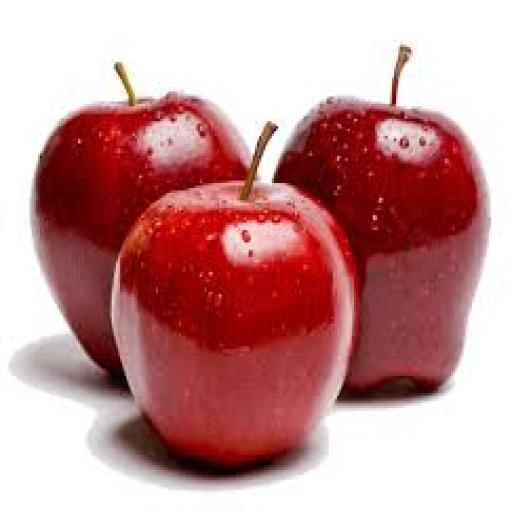apple: (112, 124, 356, 469), (277, 47, 488, 390), (32, 65, 248, 373)
